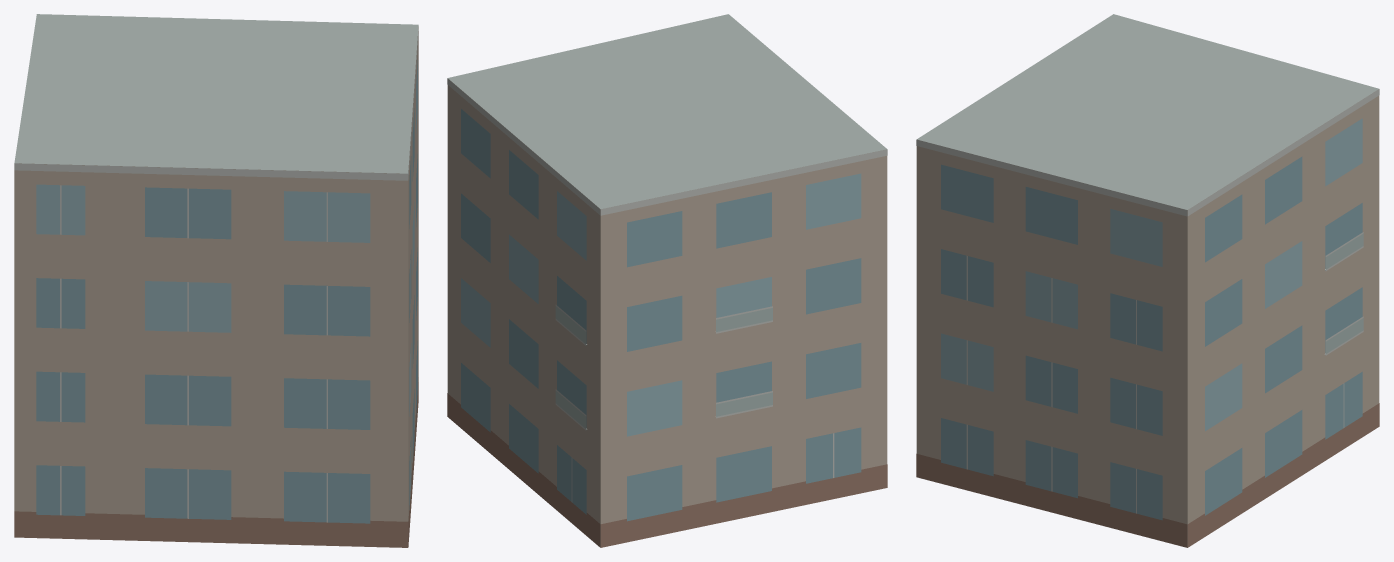
Rendered from survey-upis-33046664.glb.
3 views of the same model, side by side, from view 1: azimuth 30°, elevation 25°; view 2: azimuth 150°, elevation 25°; view 3: azimuth 270°, elevation 25° (orthographic). The views are drawn at different scales.
Parts seen in each view (by area): view 1: survey-upis-33046664.tmp; view 2: survey-upis-33046664.tmp; view 3: survey-upis-33046664.tmp.
Part boxes in pixels (box(x1,y1,x2,y2)): survey-upis-33046664.tmp: box(14, 14, 418, 547); survey-upis-33046664.tmp: box(447, 14, 887, 547); survey-upis-33046664.tmp: box(916, 14, 1379, 547).
Bounding box in the file's own units: 15.95 × 12.8 × 15.91.
